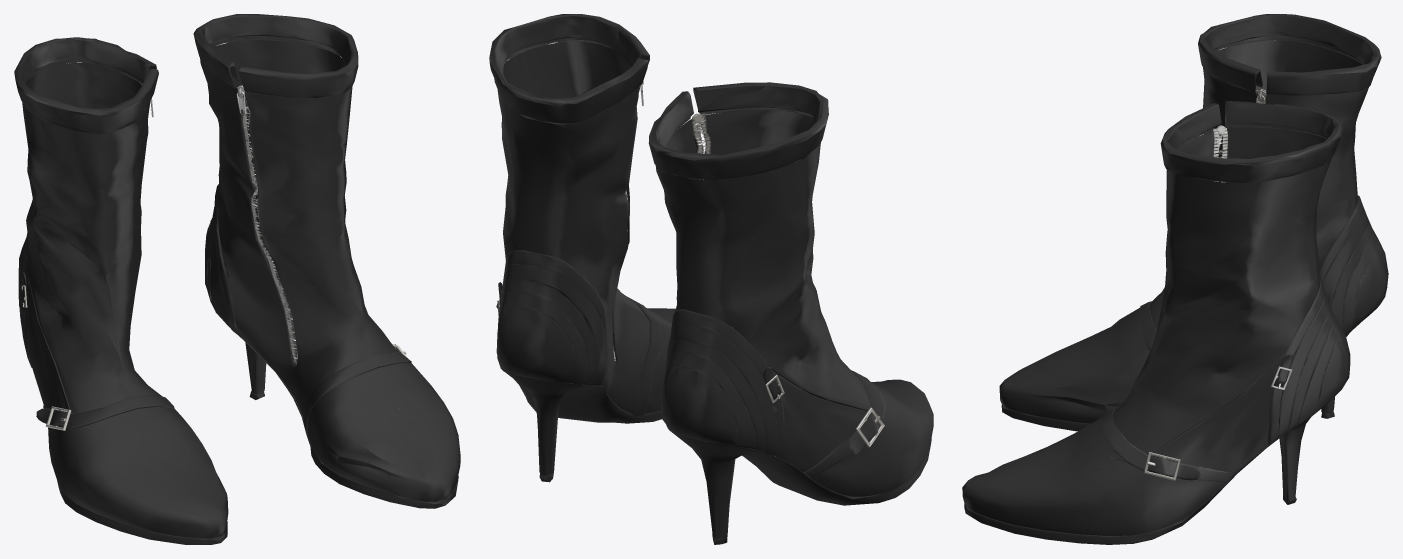
The model's file is raw_model.obj.
The picture shows the model from 3 angles, left to right: view 1: azimuth 30°, elevation 25°; view 2: azimuth 150°, elevation 25°; view 3: azimuth 270°, elevation 25°; orthographic projection. The views are drawn at different scales.
Parts seen in each view (by area): view 1: solid_002, solid_003, solid_001; view 2: solid_002, solid_003, solid_001; view 3: solid_002, solid_003, solid_001.
Part boxes in pixels (x1,y1,x2,y2): solid_002: [14, 14, 460, 538]; solid_003: [29, 287, 458, 544]; solid_001: [21, 85, 408, 430]; solid_002: [489, 14, 933, 496]; solid_003: [505, 356, 931, 544]; solid_001: [497, 81, 884, 447]; solid_002: [962, 14, 1388, 535]; solid_003: [964, 323, 1359, 544]; solid_001: [1144, 89, 1292, 480].
Size of the model in its own units: 0.2476 by 0.2528 by 0.261.
1 material, 1 textured.
